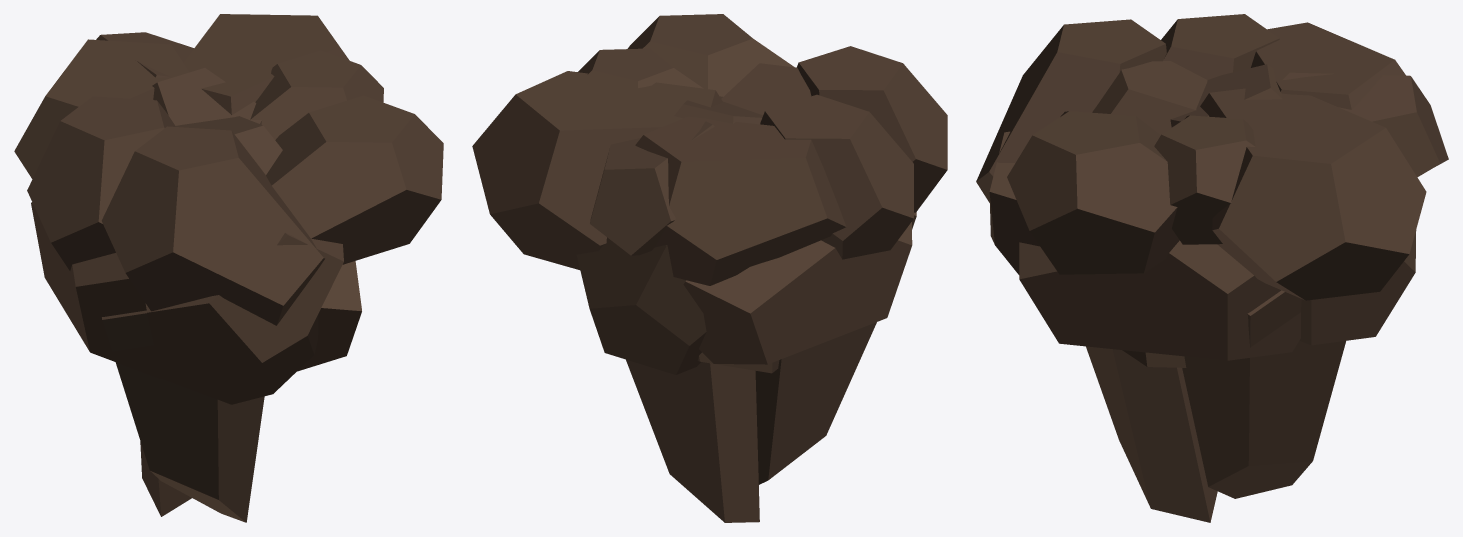
File: Rock_Floor1_Chunk.fbx
3 views of the same model, side by side, from view 1: azimuth 30°, elevation 25°; view 2: azimuth 150°, elevation 25°; view 3: azimuth 270°, elevation 25° (orthographic). The views are drawn at different scales.
Visible parts, largest first — view 1: Rock_Floor1_Chunk; view 2: Rock_Floor1_Chunk; view 3: Rock_Floor1_Chunk.
Part boxes in pixels (left/top/right/bottom): Rock_Floor1_Chunk: left=14, top=14, right=443, bottom=522; Rock_Floor1_Chunk: left=472, top=14, right=947, bottom=522; Rock_Floor1_Chunk: left=976, top=14, right=1448, bottom=522.
Size of the model in its own units: 431 by 459 by 444.
